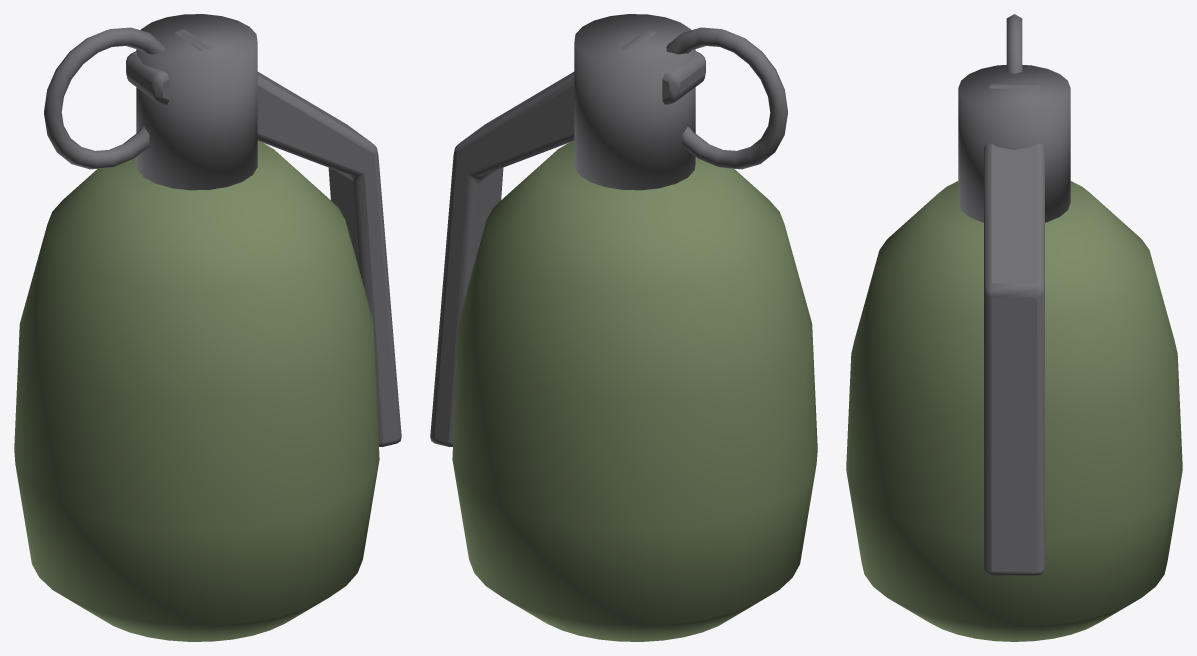
Rendered from w_frag.glb.
3 renders of one model, left to right at view 1: azimuth 30°, elevation 25°; view 2: azimuth 150°, elevation 25°; view 3: azimuth 270°, elevation 25°, orthographic. The views are drawn at different scales.
Visible parts, largest first — view 1: body, pin; view 2: body, pin; view 3: body, pin.
Part boxes in pixels (x1,y1,x2,y2): body: [14, 14, 401, 641]; pin: [44, 27, 165, 169]; body: [430, 14, 817, 641]; pin: [666, 27, 787, 169]; body: [846, 65, 1182, 641]; pin: [1006, 14, 1022, 73].
Size of the model in its own units: 0.0729 by 0.1188 by 0.066.
